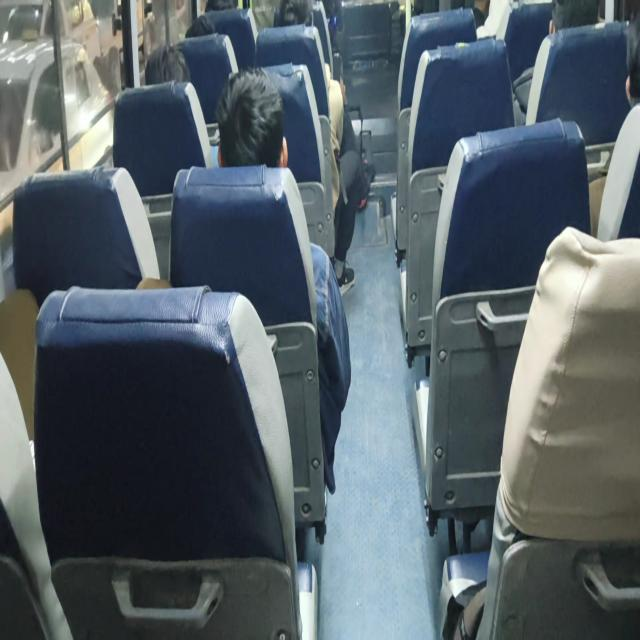person: (212, 81, 298, 166), (539, 0, 602, 51), (134, 47, 193, 89), (267, 2, 327, 31), (176, 19, 231, 45), (622, 26, 640, 94)
